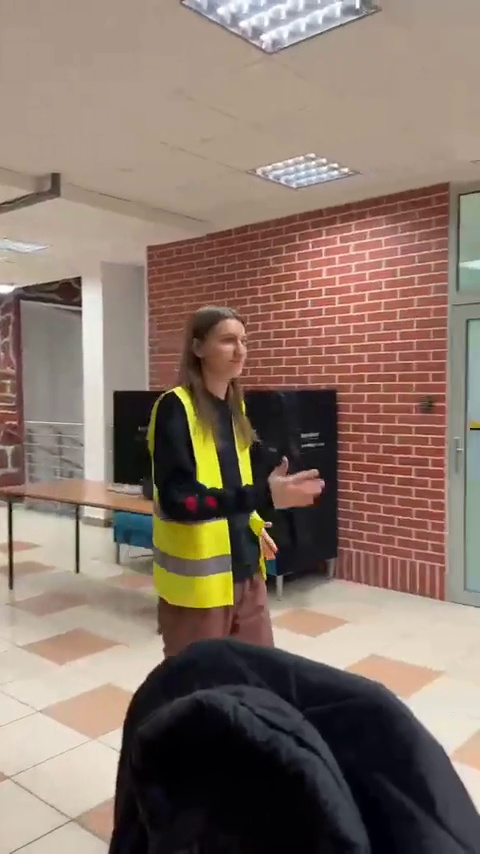vest: (132, 299, 296, 644)
